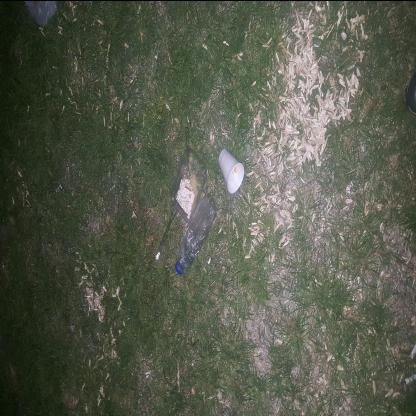karton: (148, 173, 194, 199)
plastik: (193, 199, 275, 242), (148, 210, 222, 246), (194, 236, 262, 262), (170, 165, 209, 189), (127, 226, 191, 232)
